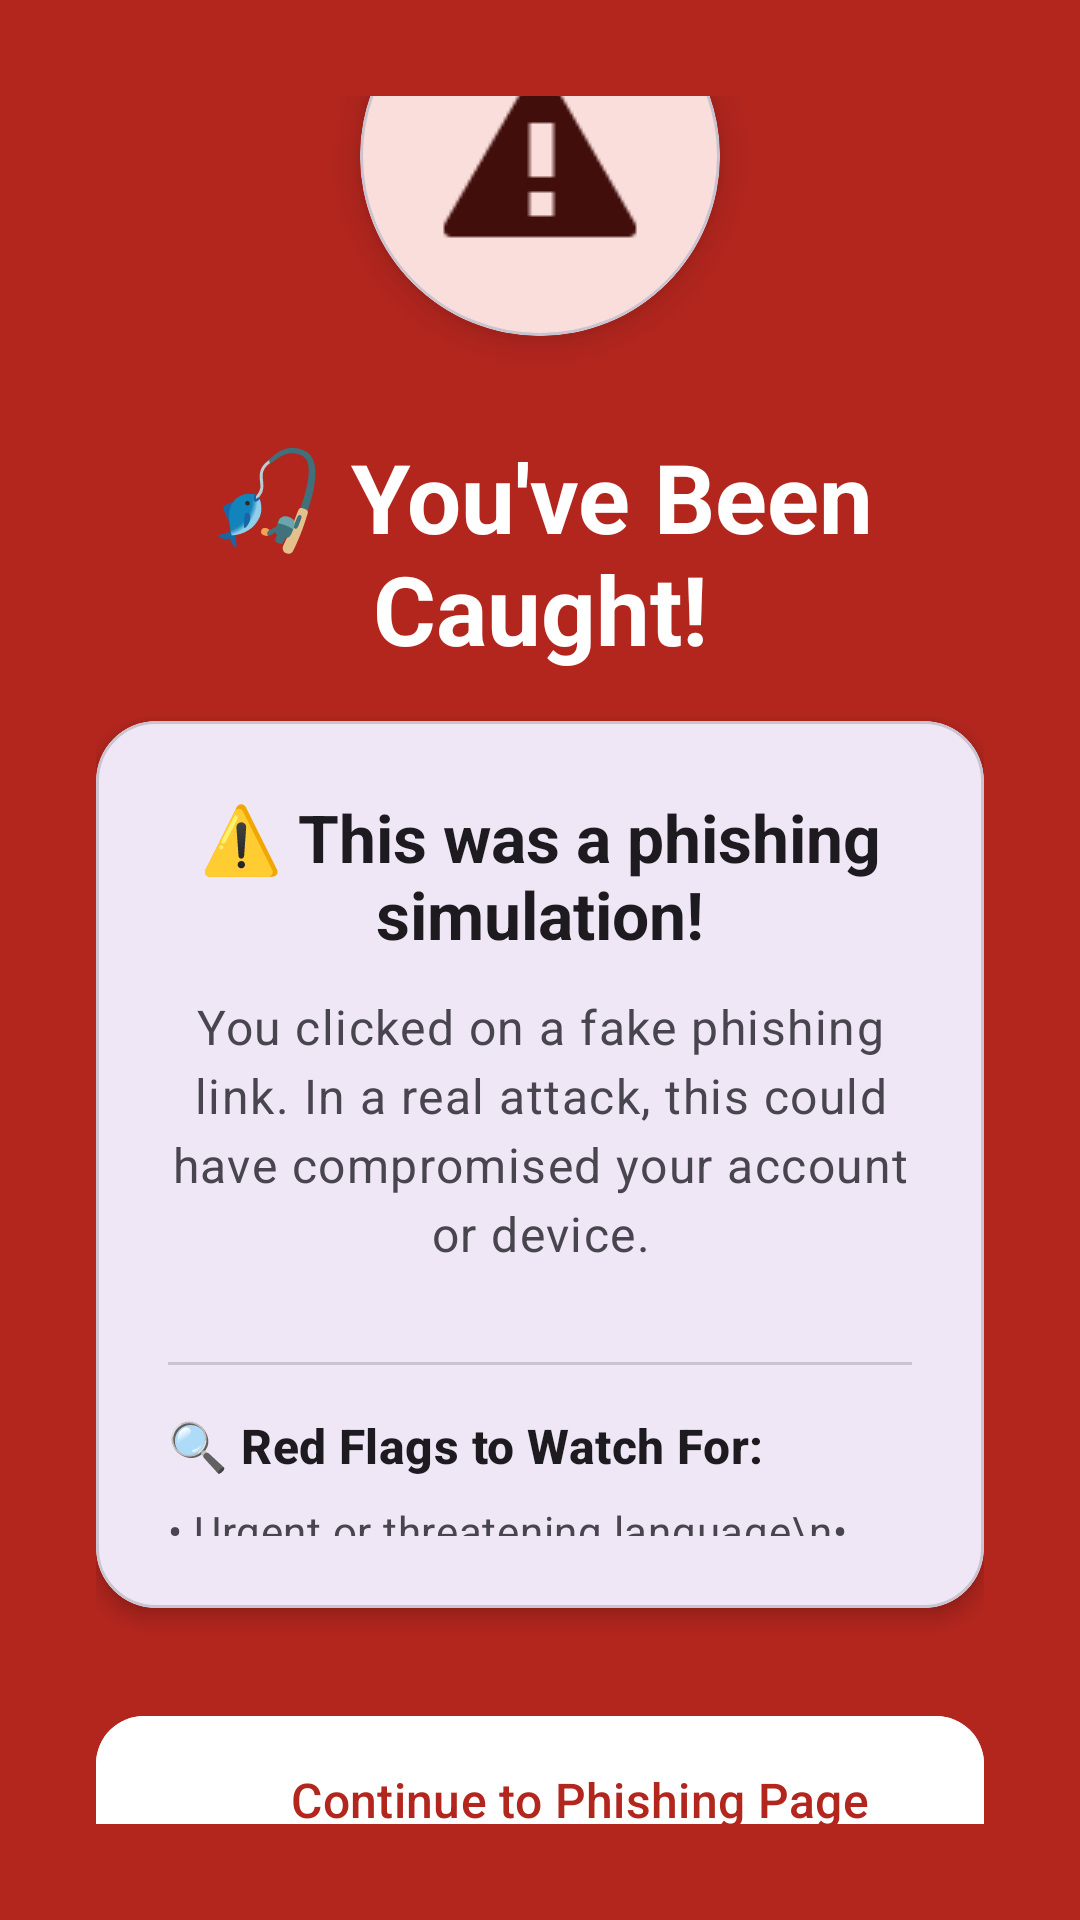

Icons on this 1080px x 1920px Android screen, each with its box as (x1, y1, x2, y2):
error: (432, 48, 648, 238)
